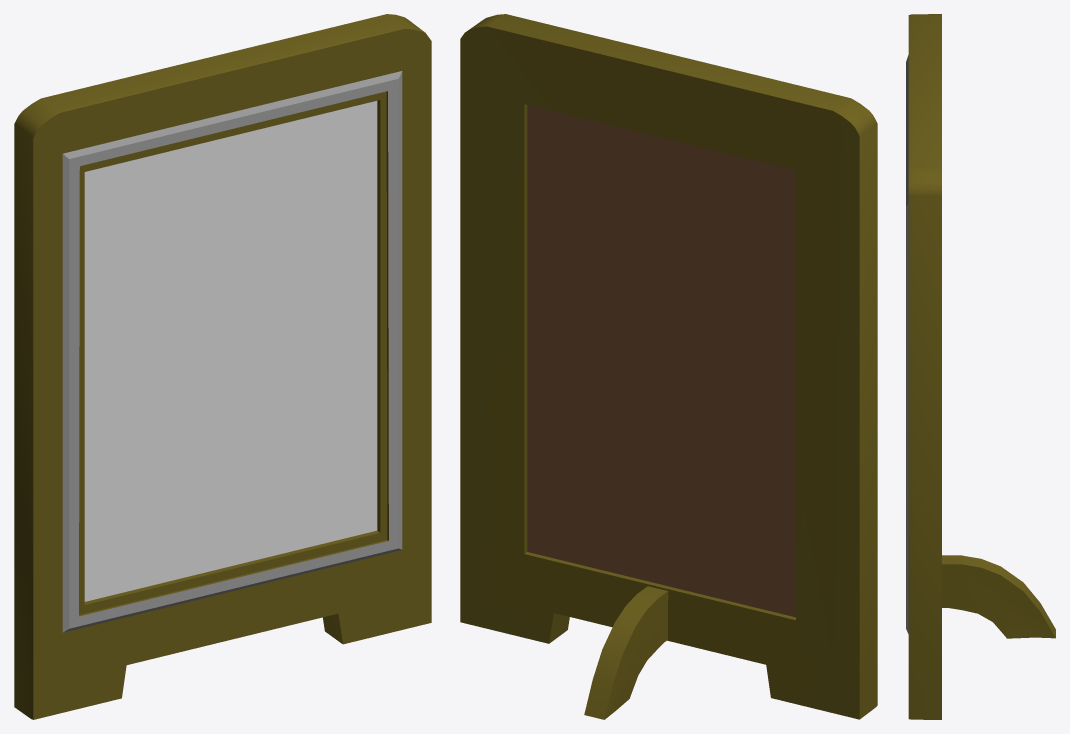
File: JapanPhoto.fbx
3 renders of one model, left to right at view 1: azimuth 30°, elevation 25°; view 2: azimuth 150°, elevation 25°; view 3: azimuth 270°, elevation 25°, orthographic. The views are drawn at different scales.
Visible parts, largest first — view 1: Cube; view 2: Cube; view 3: Cube.
Part boxes in pixels (box(x1,y1,x2,y2)): Cube: box(14, 14, 431, 719); Cube: box(460, 14, 877, 719); Cube: box(906, 14, 1055, 719).
Size of the model in its own units: 34.24 by 49.4 by 12.39.
